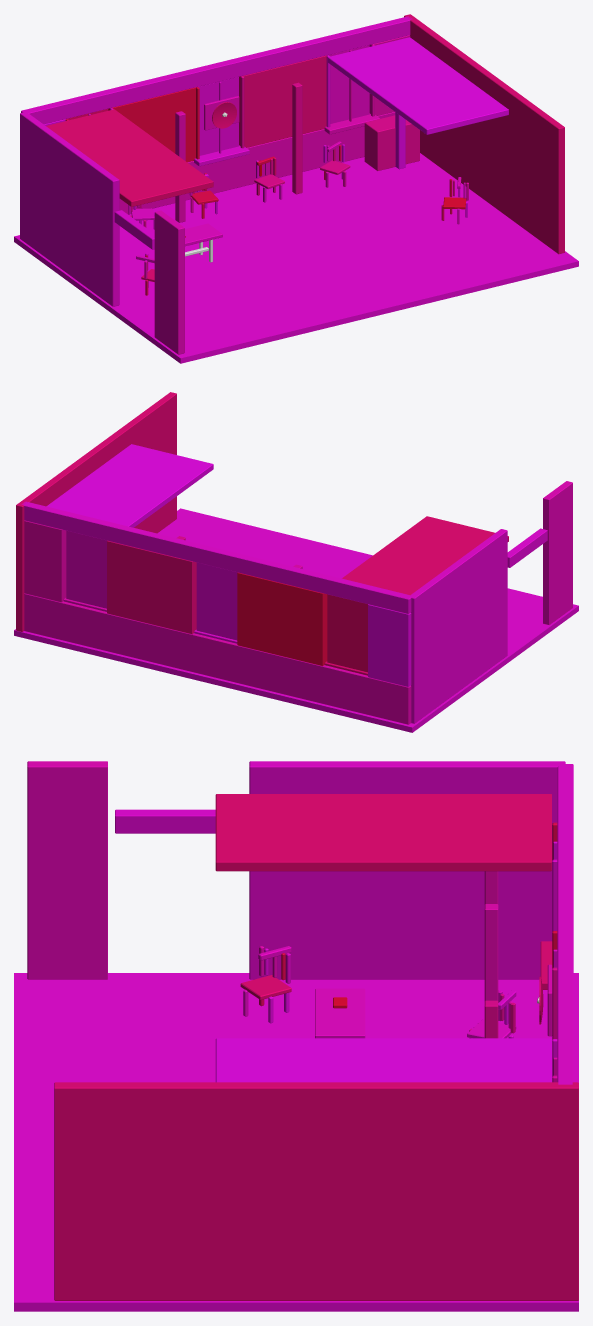
Rendered from court_chapter_02.glb.
3 renders of one model, top to bottom at view 1: azimuth 30°, elevation 25°; view 2: azimuth 150°, elevation 25°; view 3: azimuth 270°, elevation 25°, orthographic. The views are drawn at different scales.
Visible parts, largest first — view 1: Floor, WallRight, WallLeftRear, CanopyPorch_4.3, WallBackHigh, CanopyPorch_-4.3, WallBackPier_2, WallBackLow, WallLeftFront, WallBackPier_1, RecordAlcove, Glazing_1 (+15 smaller); view 2: WallBackLow, WallLeftRear, Floor, WallBackHigh, CanopyPorch_4.3, WallBackPier_1, WallBackPier_2, WallRight, CanopyPorch_-4.3, WallLeftFront, WallBackPier_0, WallBackPier_end (+4 smaller); view 3: WallRight, Floor, WallLeftRear, CanopyPorch_-4.3, WallLeftFront, CanopyPorch_4.3, WallBackHigh, DoorLintel, Desk_0, Chair_officials_2, CourtyardPost_1, Chair_officials_0.
Boxes of the visible parts, x1,y1,x2,y2 form: Floor: (14,153,578,363); WallRight: (404,14,564,254); WallLeftRear: (20,112,119,306); CanopyPorch_4.3: (328,37,508,134); WallBackHigh: (21,16,412,124); CanopyPorch_-4.3: (46,109,213,206); WallBackPier_2: (239,55,326,147); WallBackLow: (119,112,395,214); WallLeftFront: (154,210,184,354); WallBackPier_1: (108,87,195,162); RecordAlcove: (364,115,419,170); Glazing_1: (198,77,238,155); WallBackLow: (24,593,411,724); WallLeftRear: (410,529,507,723); Floor: (14,508,578,732); WallBackHigh: (21,501,412,613); CanopyPorch_4.3: (46,444,213,527); WallBackPier_1: (237,572,327,665); WallBackPier_2: (107,540,196,634); WallRight: (16,392,176,631); CanopyPorch_-4.3: (342,516,508,595); WallLeftFront: (543,481,572,624); WallBackPier_0: (368,604,411,686); WallBackPier_end: (24,520,66,602); WallRight: (54,1082,578,1300); Floor: (14,973,578,1311); WallLeftRear: (249,761,565,979); CanopyPorch_-4.3: (215,794,551,871); WallLeftFront: (27,761,107,979); CanopyPorch_4.3: (215,1038,551,1082); WallBackHigh: (557,764,573,1084); DoorLintel: (115,809,215,833); Desk_0: (315,988,365,1038); Chair_officials_2: (240,946,291,1023); CourtyardPost_1: (484,904,498,1000); Chair_officials_0: (467,990,516,1038).
Bounding box in the file's own units: 11.6 × 3.65 × 8.4.
